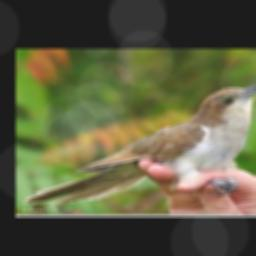Cuckoo: (22, 82, 256, 205)
